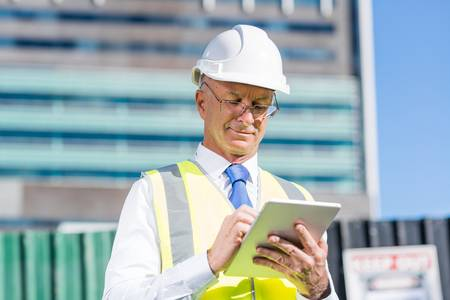casco: (190, 23, 291, 97)
